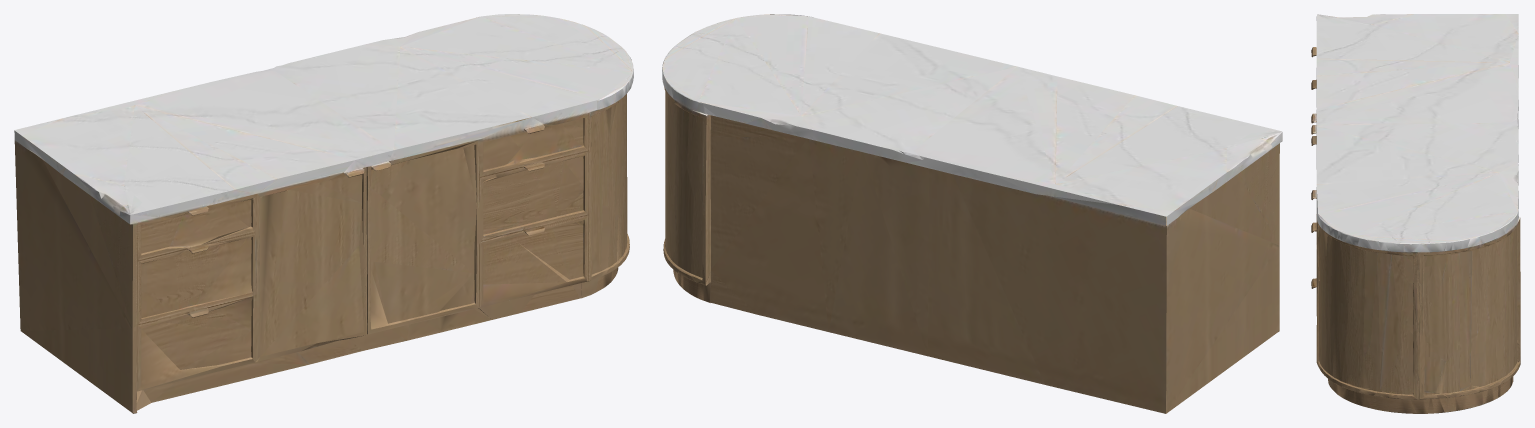
File: kitchen_island.glb
3 views of the same model, side by side, from view 1: azimuth 30°, elevation 25°; view 2: azimuth 150°, elevation 25°; view 3: azimuth 270°, elevation 25° (orthographic). The views are drawn at different scales.
Visible parts, largest first — view 1: 0; view 2: 0; view 3: 0.
Part boxes in pixels (box(x1,y1,x2,y2)): 0: box(14, 14, 633, 413); 0: box(662, 14, 1282, 413); 0: box(1311, 14, 1520, 413).
Bounding box in the file's own units: 2.6 × 0.92 × 1.
1 material, 1 textured.
